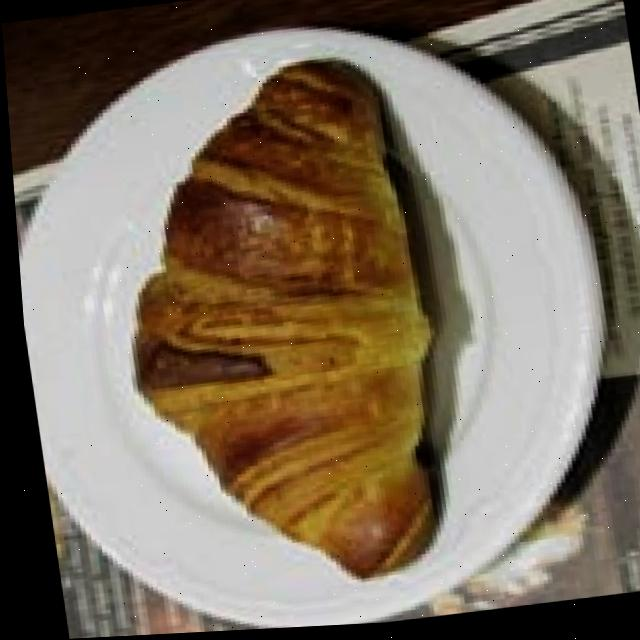面包点心: (55, 41, 520, 624)
